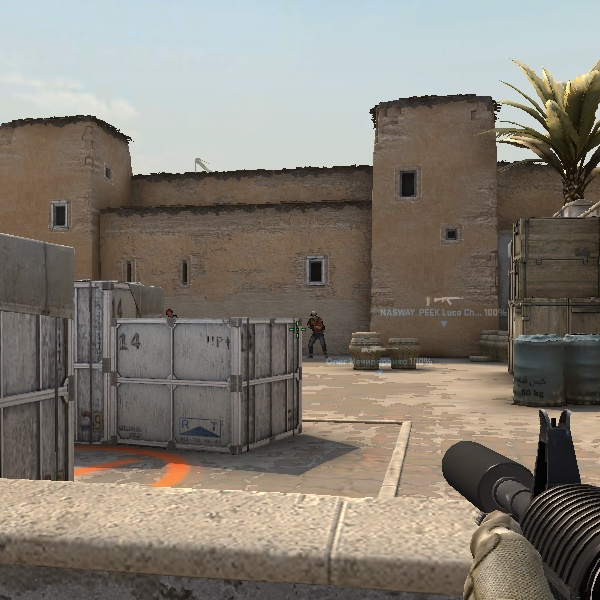t_body: (303, 310, 329, 357)
t_head: (310, 311, 318, 324)
